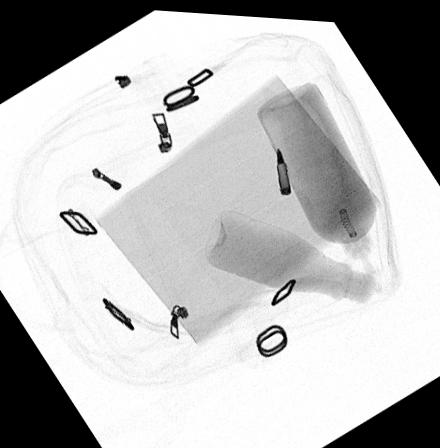Bullet: (275, 142, 290, 191)
